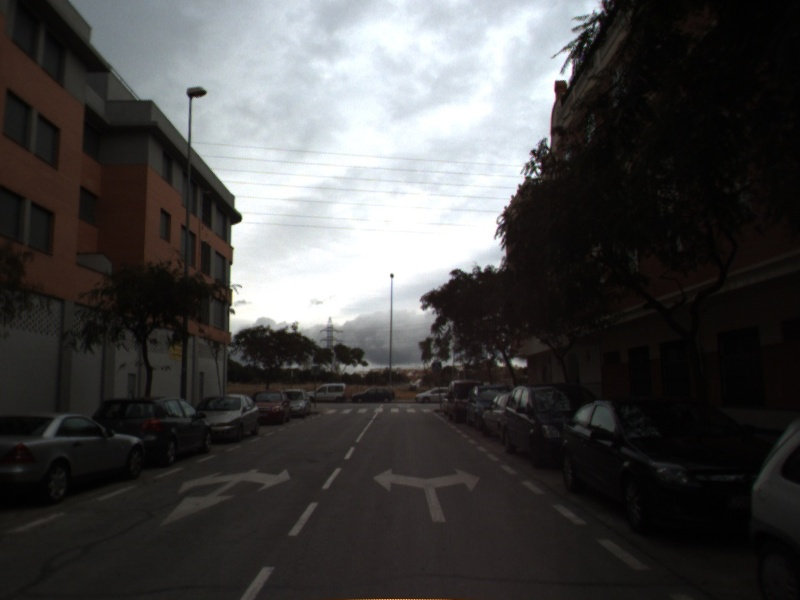LEFT_RIGHT: (371, 466, 483, 524)
